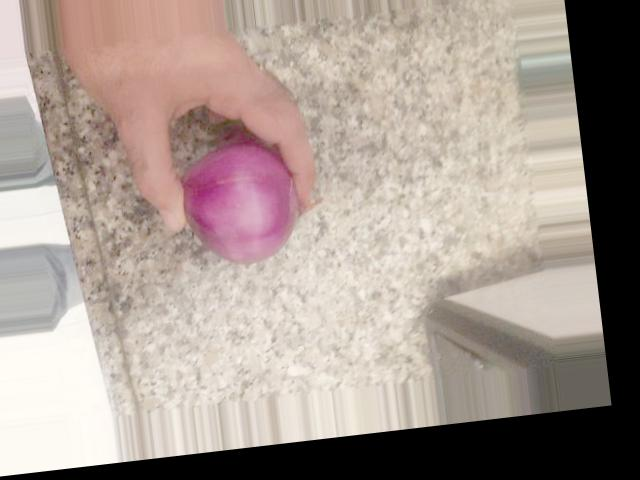onion: (172, 142, 309, 265)
